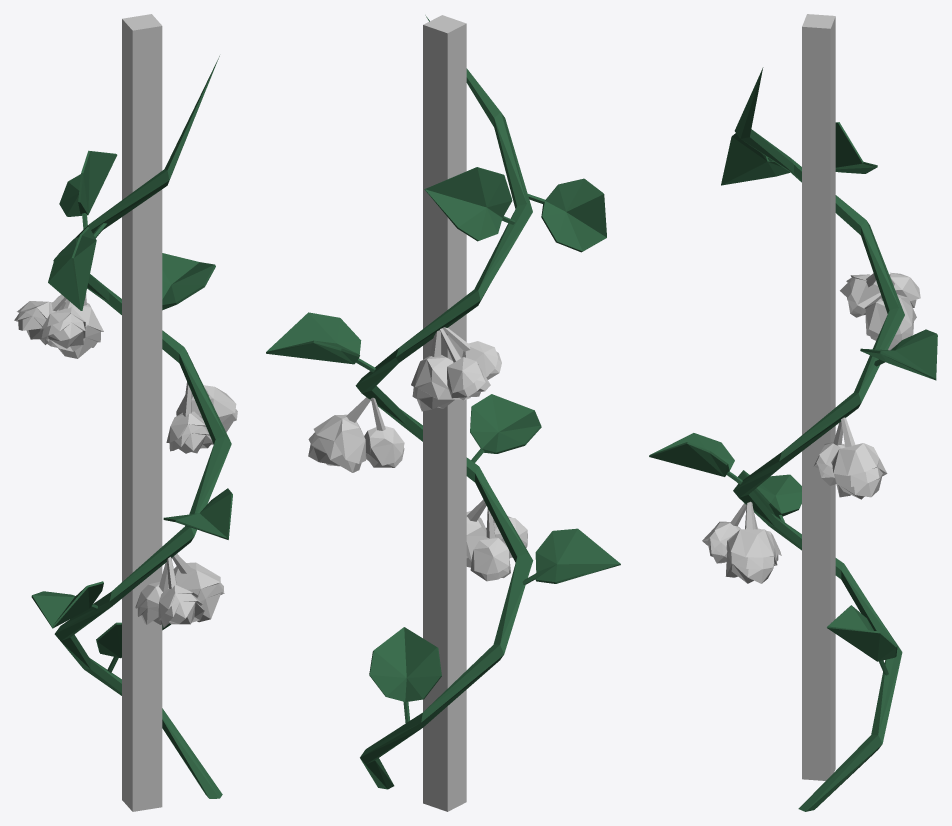
File: mod_Plant_Artichaut.fbx
The picture shows the model from 3 angles, left to right: view 1: azimuth 30°, elevation 25°; view 2: azimuth 150°, elevation 25°; view 3: azimuth 270°, elevation 25°; orthographic projection. The views are drawn at different scales.
Visible parts, largest first — view 1: TuteurArtichaut, TigeArtichaut, Artichaut1, Artichaut3, Artichaut2; view 2: TigeArtichaut, TuteurArtichaut, Artichaut3, Artichaut2, Artichaut1; view 3: TuteurArtichaut, TigeArtichaut, Artichaut1, Artichaut2, Artichaut3.
Part boxes in pixels (x1,y1,x2,y2): TuteurArtichaut: (122,14,162,811); TigeArtichaut: (31,56,232,798); Artichaut1: (135,554,224,627); Artichaut3: (14,293,103,358); Artichaut2: (166,382,237,453); TigeArtichaut: (266,15,620,789); TuteurArtichaut: (423,15,466,811); Artichaut3: (411,327,501,411); Artichaut2: (308,397,404,472); Artichaut1: (466,499,527,581); TuteurArtichaut: (802,14,835,780); TigeArtichaut: (649,67,937,811); Artichaut1: (702,501,781,583); Artichaut2: (813,417,887,499); Artichaut3: (840,272,920,350).
Size of the model in its own units: 45.99 by 137 by 47.39.
